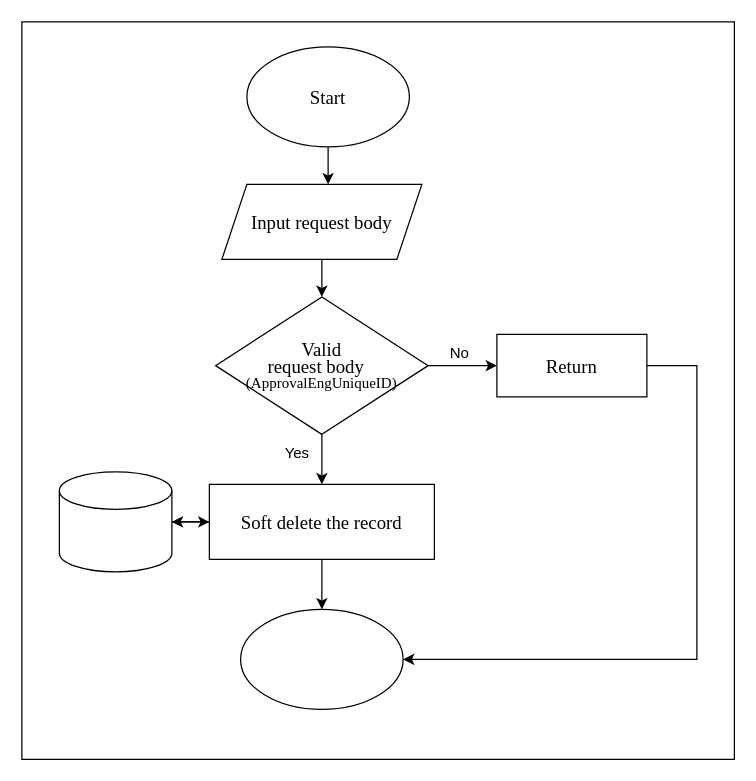
Some shapes in this 756 by 781 pixel diagram are drawn without their labels. Here are the shapes that lost their labels. From the top down, the box of each, then its label:
(58, 471, 172, 572): Database
(239, 608, 403, 709): End
